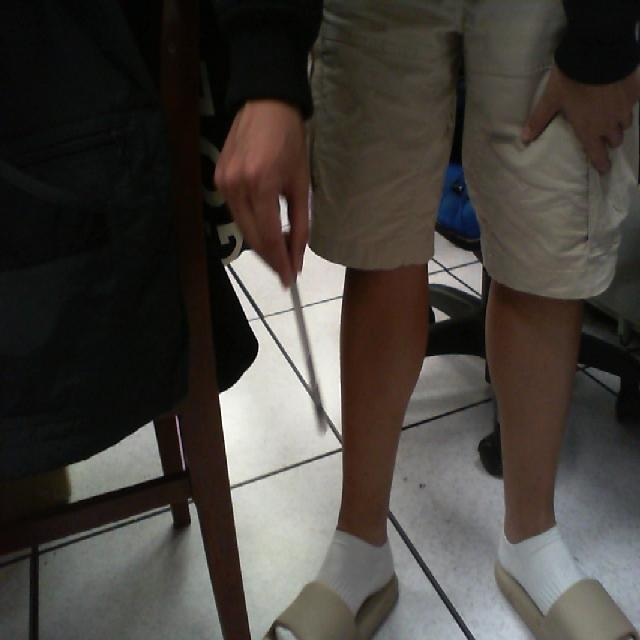Pen: (276, 232, 333, 446)
